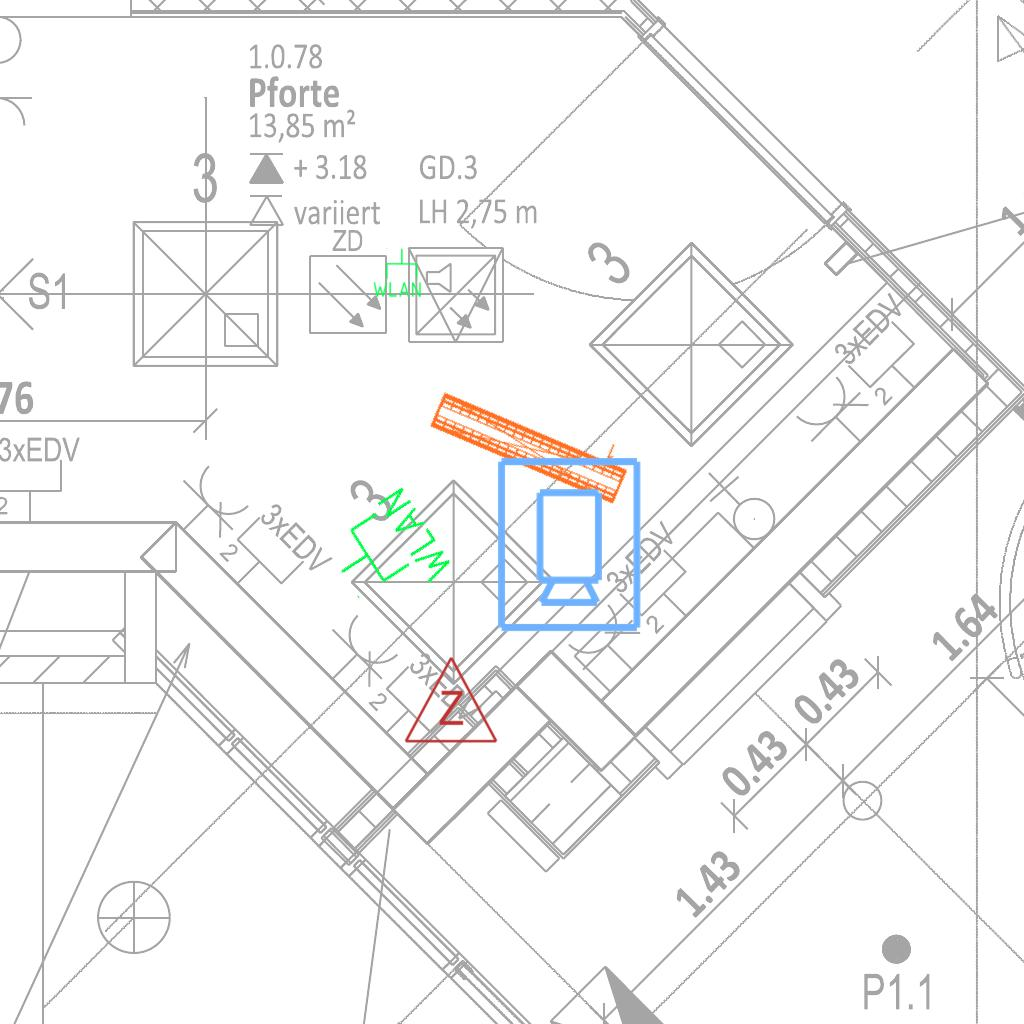Buero_Pendelleuchten_LED: (424, 369, 640, 510)
KFO_Kamera_mit_Festobjektiv: (491, 453, 645, 635)
WLAN: (315, 481, 461, 626), (371, 247, 423, 299)
Zimmersignalleuchte: (401, 650, 499, 750)
